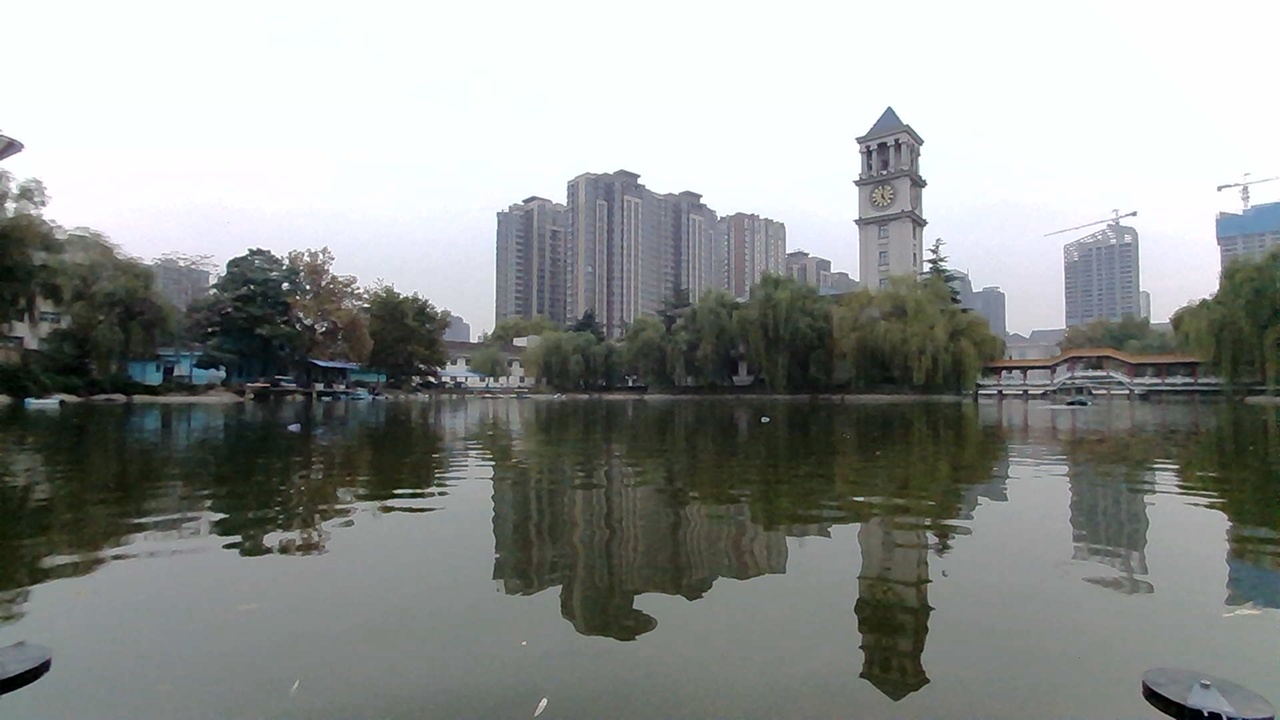bottle: (275, 406, 324, 443), (748, 402, 791, 431)
